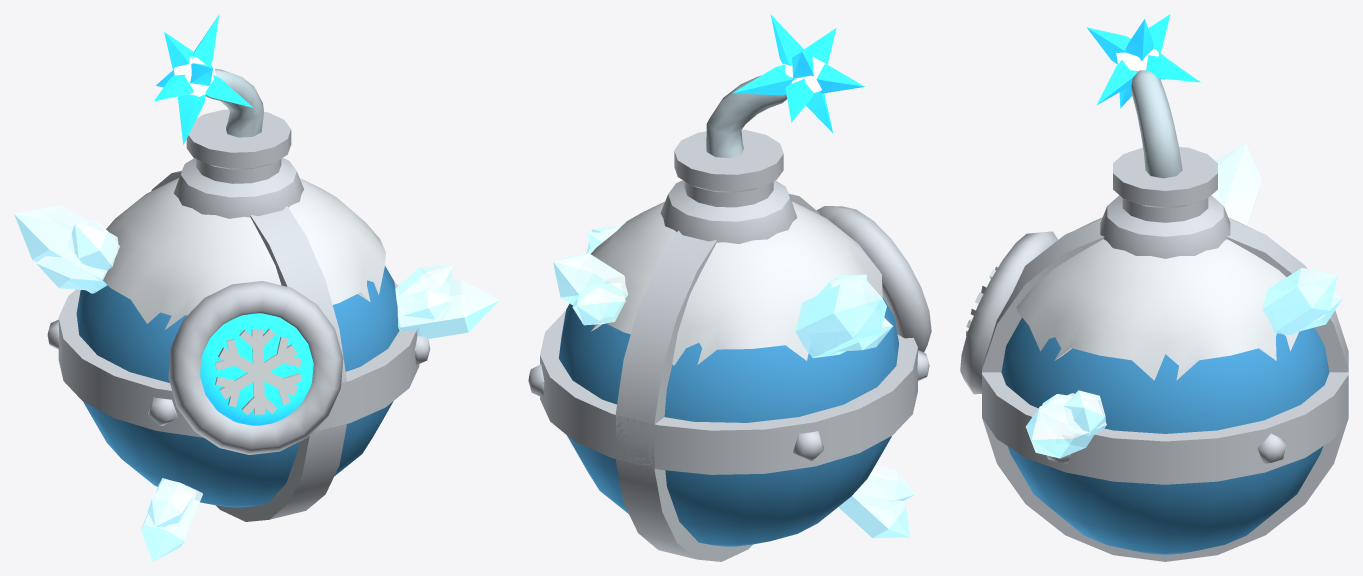
Rendered from item_frost_bomb.glb.
The picture shows the model from 3 angles, left to right: view 1: azimuth 30°, elevation 25°; view 2: azimuth 150°, elevation 25°; view 3: azimuth 270°, elevation 25°; orthographic projection. The views are drawn at different scales.
Parts seen in each view (by area): view 1: FrostBomb; view 2: FrostBomb; view 3: FrostBomb.
Part boxes in pixels (left/top/right/bottom): FrostBomb: left=14, top=14, right=499, bottom=561; FrostBomb: left=528, top=14, right=931, bottom=561; FrostBomb: left=960, top=14, right=1348, bottom=561.
Bounding box in the file's own units: 0.213 × 0.27 × 0.1831.
